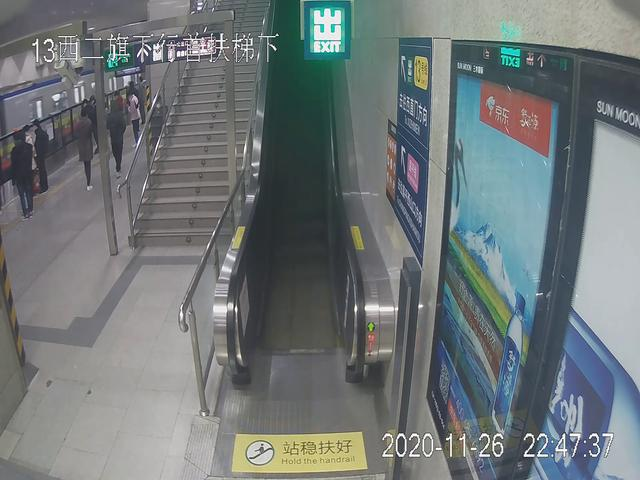person: (9, 132, 33, 223), (73, 108, 98, 192), (107, 100, 127, 179), (27, 118, 48, 192), (122, 91, 146, 151)
